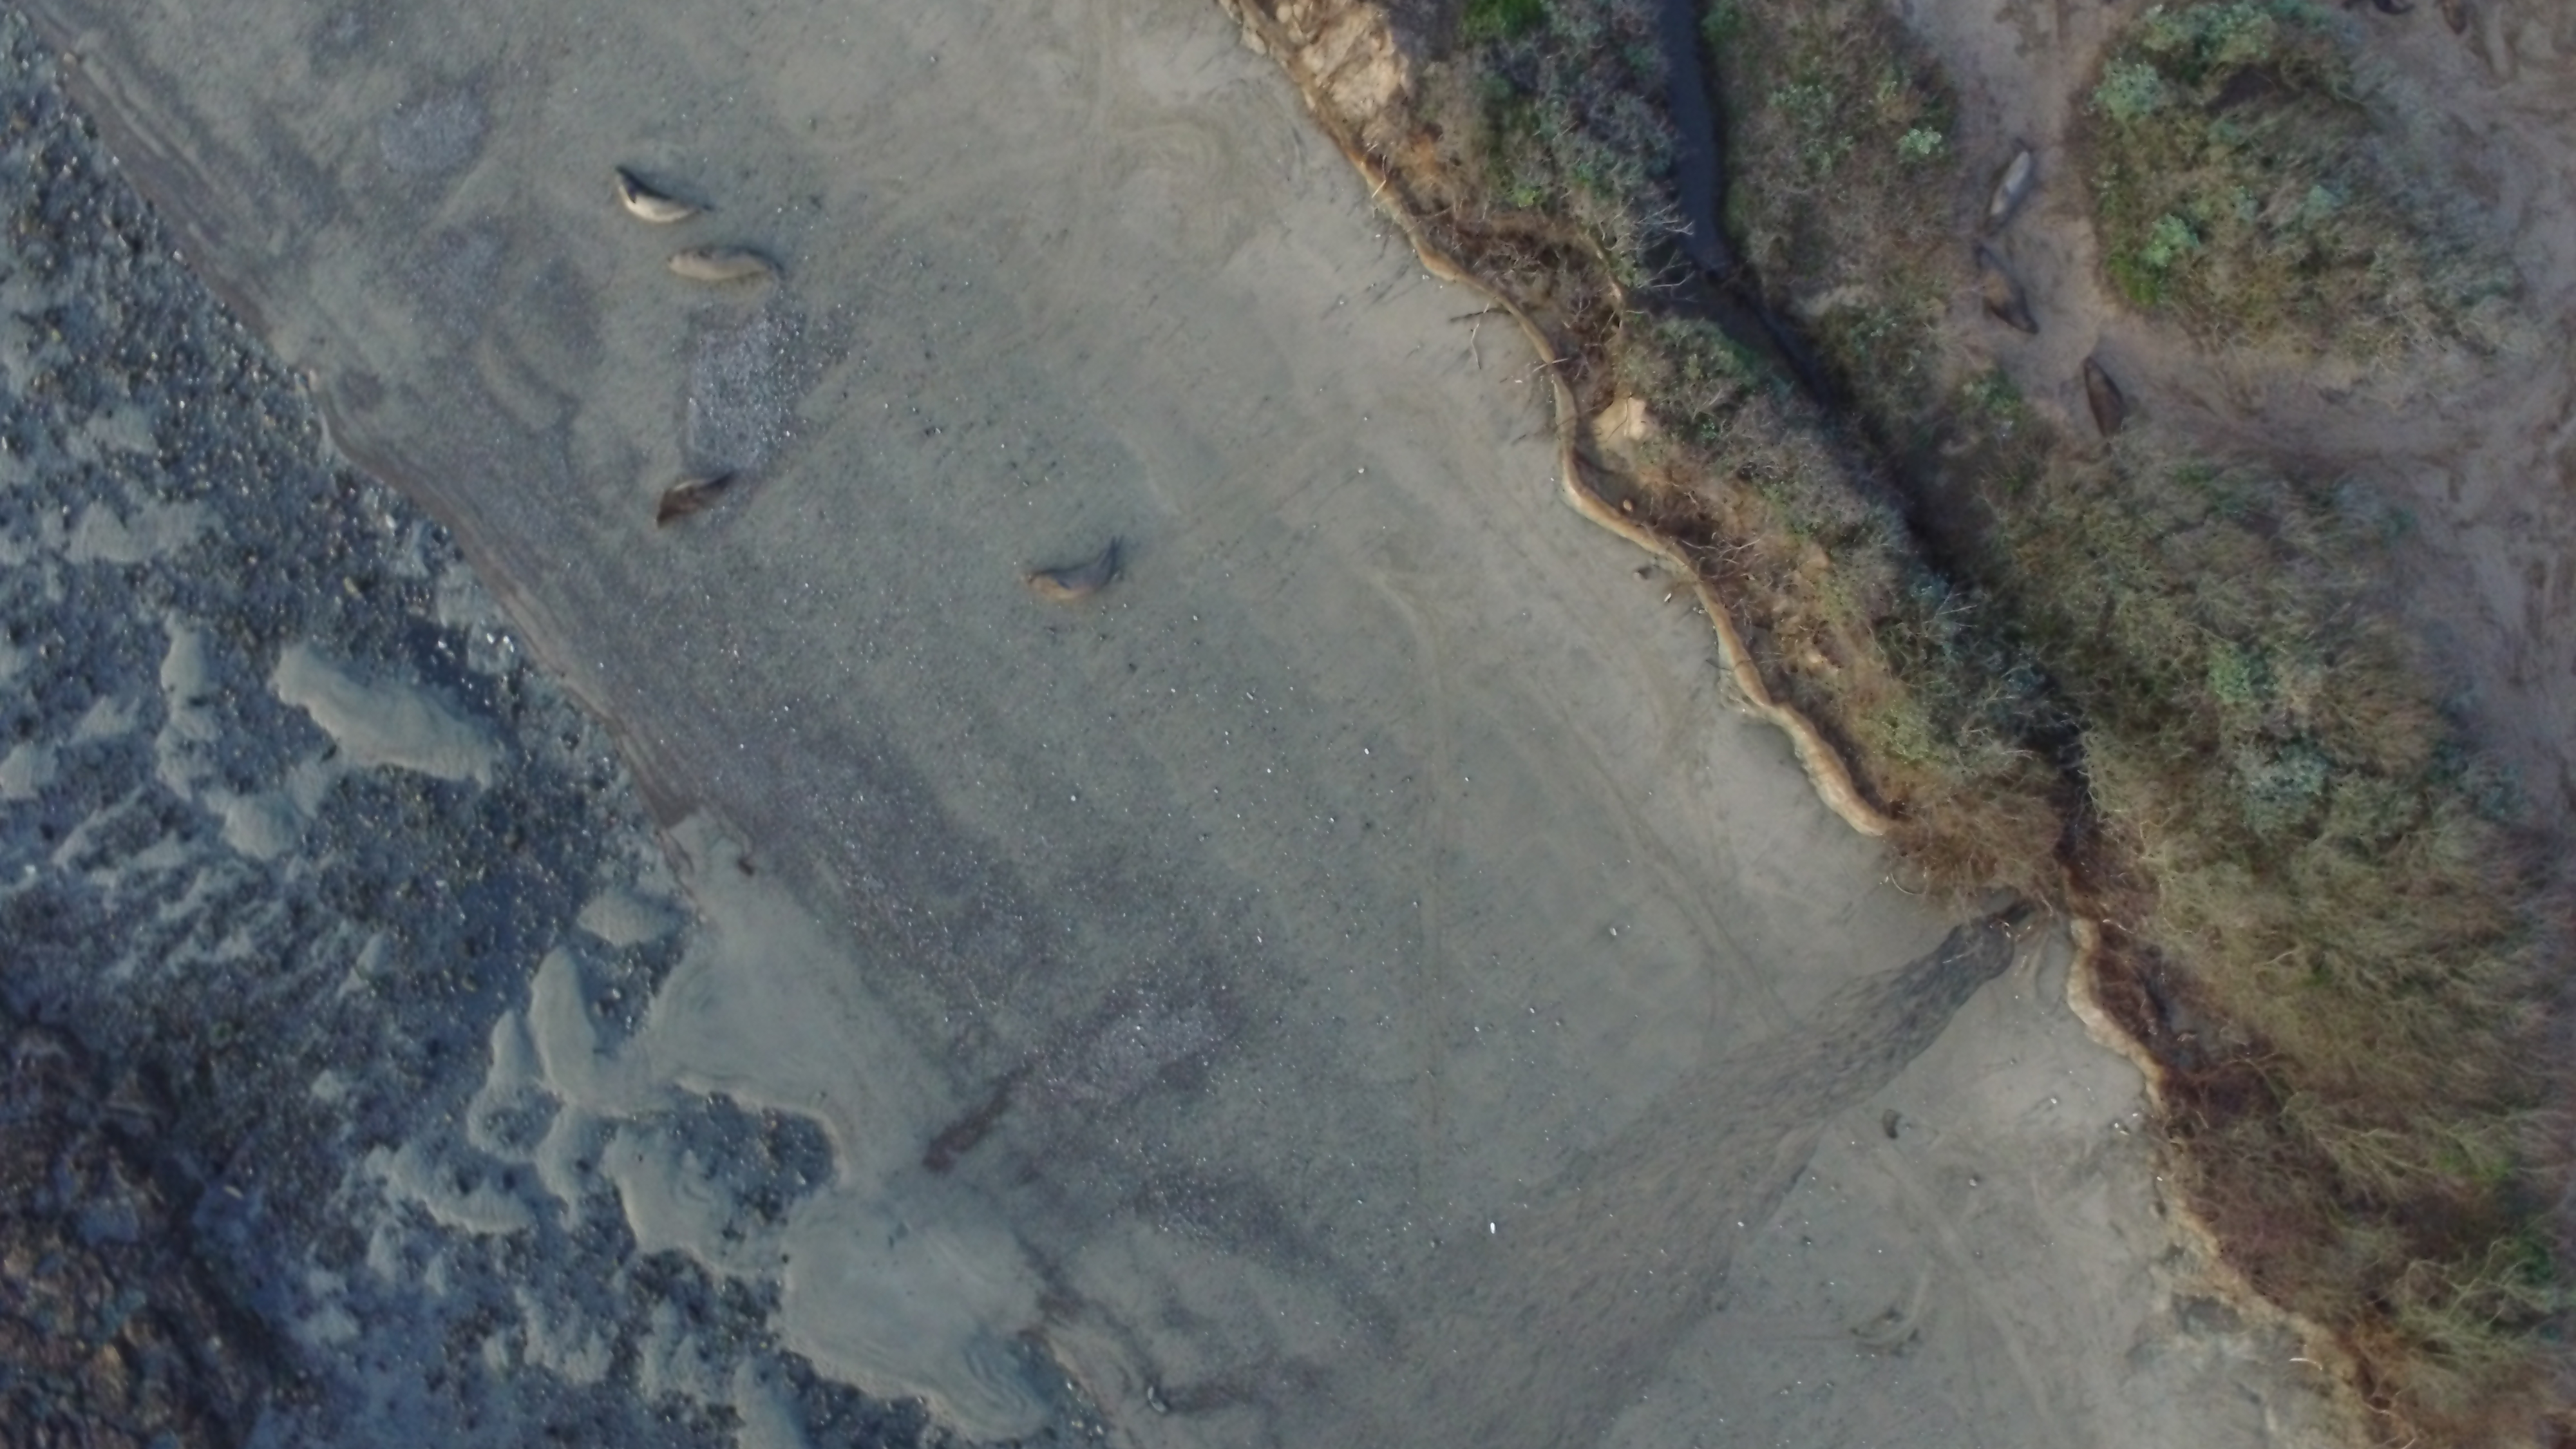male juvenile / female juvenile / adult female: (1026, 536, 1127, 612), (616, 172, 713, 223), (658, 474, 732, 534), (656, 257, 791, 281), (1996, 145, 2031, 235)
pup: (1973, 242, 2042, 336), (2084, 357, 2121, 435)
